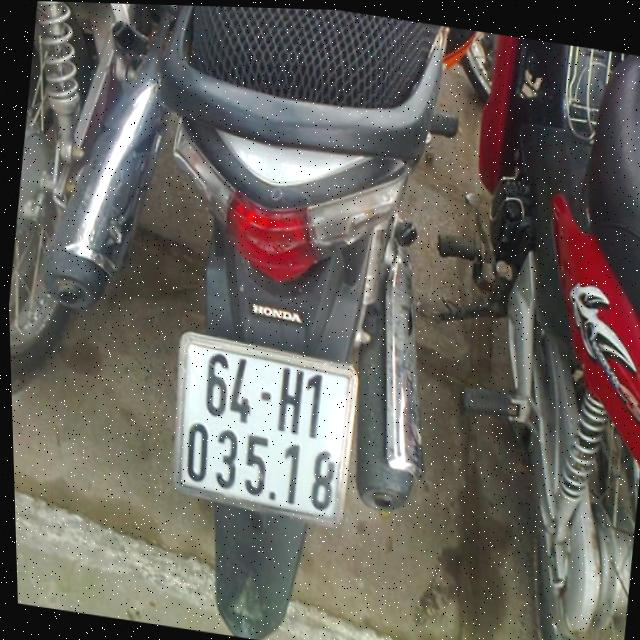motorcycle: (92, 3, 477, 640), (385, 29, 640, 640), (0, 0, 216, 432)
plate: (160, 325, 369, 537)
